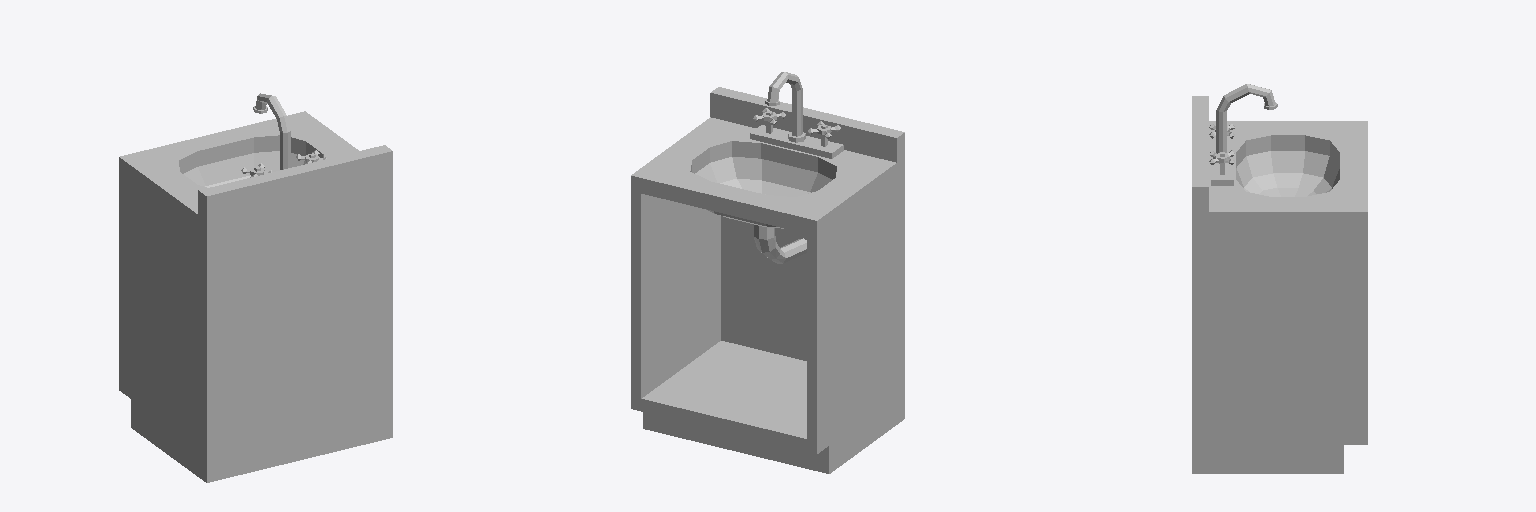
File: Lavamanos.obj
3 renders of one model, left to right at view 1: azimuth 30°, elevation 25°; view 2: azimuth 150°, elevation 25°; view 3: azimuth 270°, elevation 25°, orthographic.
Visible parts, largest first — view 1: Cube.119; view 2: Cube.119; view 3: Cube.119.
Boxes of the visible parts, box(x1,y1,x2,y2) form: Cube.119: box(119, 93, 392, 482); Cube.119: box(631, 72, 904, 473); Cube.119: box(1192, 84, 1367, 473).
Size of the model in its own units: 1.42 by 2.52 by 1.16.